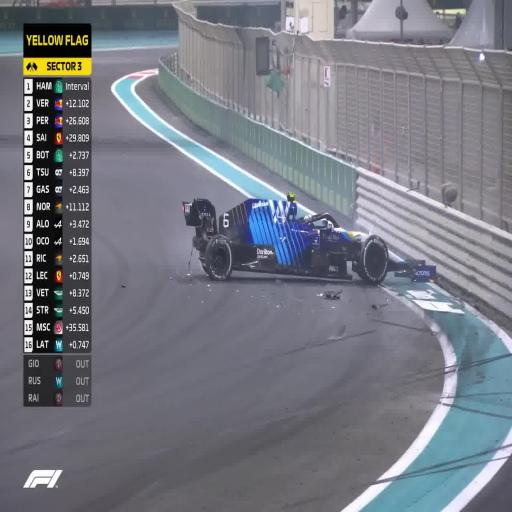f1_car: (183, 198, 425, 284)
